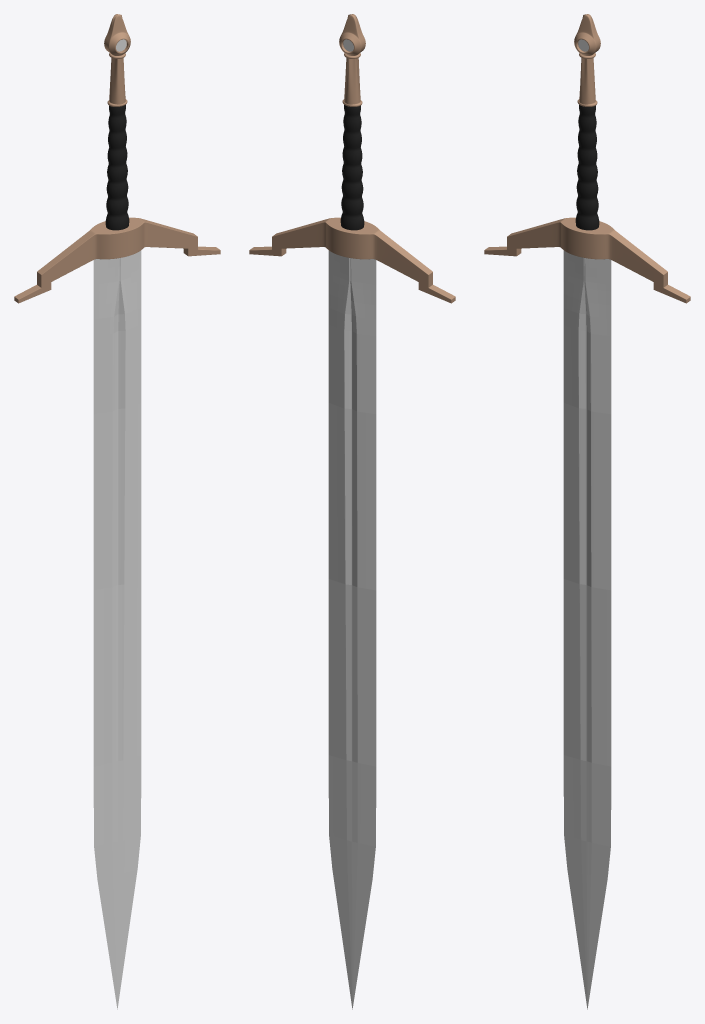
Rendered from a_sword.fbx.
3 renders of one model, left to right at view 1: azimuth 30°, elevation 25°; view 2: azimuth 150°, elevation 25°; view 3: azimuth 330°, elevation 25°, orthographic.
Parts seen in each view (by area): view 1: Cube, Cylinder, Cylinder.001, Cylinder.002, Cylinder.003; view 2: Cube, Cylinder, Cylinder.001, Cylinder.002, Cylinder.003; view 3: Cube, Cylinder, Cylinder.001, Cylinder.002, Cylinder.003.
Boxes of the visible parts, x1,y1,x2,y2 form: Cube: (93, 250, 141, 1009); Cylinder: (14, 217, 220, 303); Cylinder.001: (105, 105, 129, 230); Cylinder.002: (107, 53, 127, 106); Cylinder.003: (104, 14, 130, 55); Cube: (328, 250, 376, 1009); Cylinder: (249, 217, 455, 303); Cylinder.001: (340, 105, 364, 230); Cylinder.002: (342, 53, 362, 106); Cylinder.003: (339, 14, 365, 55); Cube: (563, 250, 611, 1009); Cylinder: (484, 217, 690, 303); Cylinder.001: (575, 105, 599, 230); Cylinder.002: (577, 53, 597, 106); Cylinder.003: (574, 14, 600, 55).
Bounding box in the file's own units: 33.76 × 159 × 4.68.
